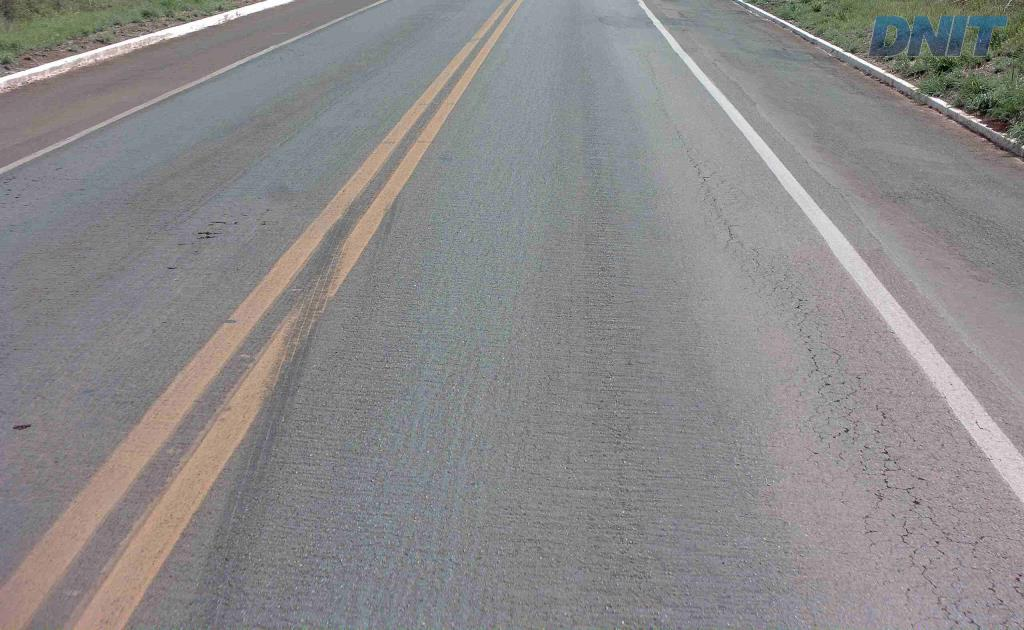crack: (865, 404, 1013, 584), (817, 367, 866, 408), (827, 405, 864, 445)
